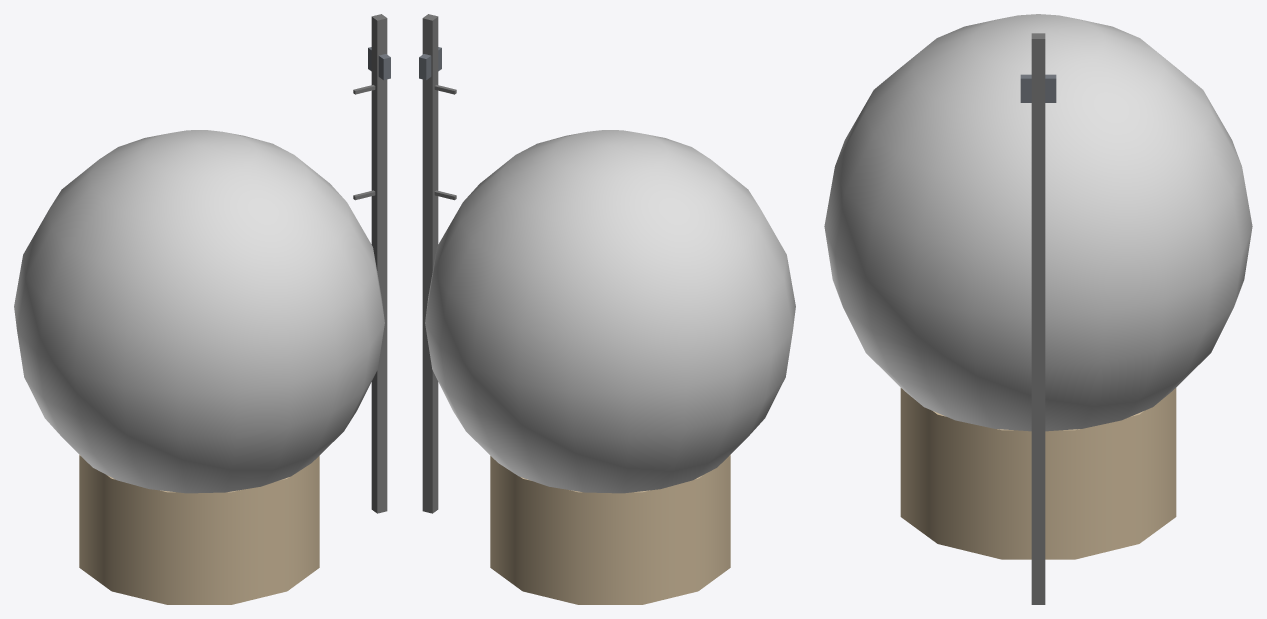
Rendered from roofprop_close.fbx.
The picture shows the model from 3 angles, left to right: view 1: azimuth 30°, elevation 25°; view 2: azimuth 150°, elevation 25°; view 3: azimuth 270°, elevation 25°; orthographic projection. The views are drawn at different scales.
Parts seen in each view (by area): view 1: a2012/400/roofprop_close; view 2: a2012/400/roofprop_close; view 3: a2012/400/roofprop_close.
Boxes of the visible parts, x1,y1,x2,y2 form: a2012/400/roofprop_close: (14, 14, 390, 604); a2012/400/roofprop_close: (419, 14, 795, 604); a2012/400/roofprop_close: (824, 14, 1252, 604).
Size of the model in its own units: 5.15 by 7 by 4.8.
